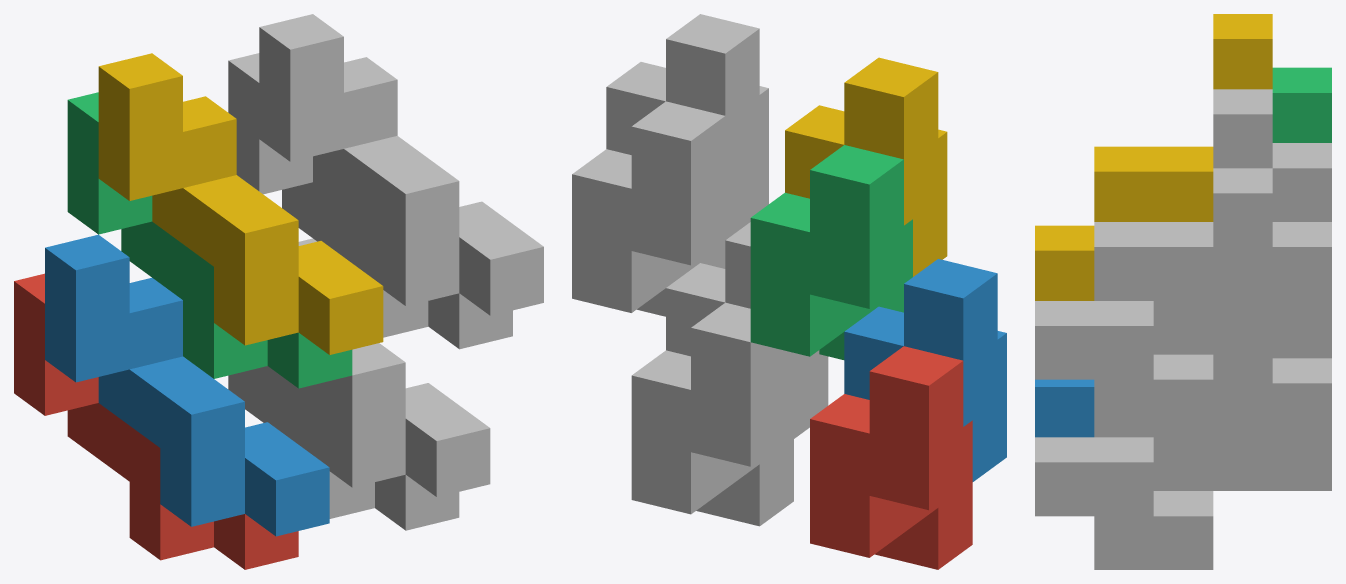
File: tiling.obj
3 renders of one model, left to right at view 1: azimuth 30°, elevation 25°; view 2: azimuth 150°, elevation 25°; view 3: azimuth 270°, elevation 25°, orthographic. The views are drawn at different scales.
Parts seen in each view (by area): view 1: copy_1_domain_4, copy_1_domain_2, copy_1_domain_8, copy_1_domain_6, copy_1_domain_3, copy_1_domain_1, copy_1_domain_7, copy_1_domain_5; view 2: copy_1_domain_1, copy_1_domain_5, copy_1_domain_7, copy_1_domain_3, copy_1_domain_2, copy_1_domain_4, copy_1_domain_8, copy_1_domain_6; view 3: copy_1_domain_8, copy_1_domain_7, copy_1_domain_5, copy_1_domain_4, copy_1_domain_6, copy_1_domain_3, copy_1_domain_2.
Boxes of the visible parts, <box> form: copy_1_domain_4: <box>98,53,383,354</box>; copy_1_domain_2: <box>45,234,329,536</box>; copy_1_domain_8: <box>259,14,543,315</box>; copy_1_domain_6: <box>264,238,490,496</box>; copy_1_domain_3: <box>67,92,352,388</box>; copy_1_domain_1: <box>14,273,298,569</box>; copy_1_domain_7: <box>228,53,512,349</box>; copy_1_domain_5: <box>228,367,459,530</box>; copy_1_domain_1: <box>810,346,972,569</box>; copy_1_domain_5: <box>631,302,793,526</box>; copy_1_domain_7: <box>572,101,734,316</box>; copy_1_domain_3: <box>750,145,912,359</box>; copy_1_domain_2: <box>844,259,1006,481</box>; copy_1_domain_4: <box>785,57,947,276</box>; copy_1_domain_8: <box>606,14,768,232</box>; copy_1_domain_6: <box>666,222,828,438</box>; copy_1_domain_8: <box>1035,89,1272,379</box>; copy_1_domain_7: <box>1094,143,1331,433</box>; copy_1_domain_5: <box>1094,354,1331,569</box>; copy_1_domain_4: <box>1035,14,1272,300</box>; copy_1_domain_6: <box>1035,354,1272,516</box>; copy_1_domain_3: <box>1272,67,1331,142</box>; copy_1_domain_2: <box>1035,379,1094,437</box>.
Bounding box in the file's own units: 7 × 8 × 5.
